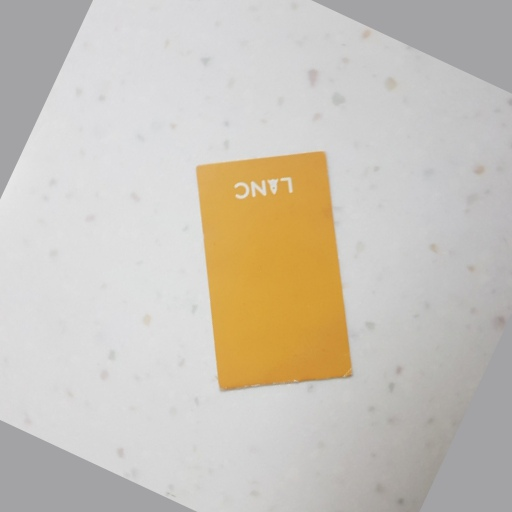Paper_2: (188, 146, 372, 398)
